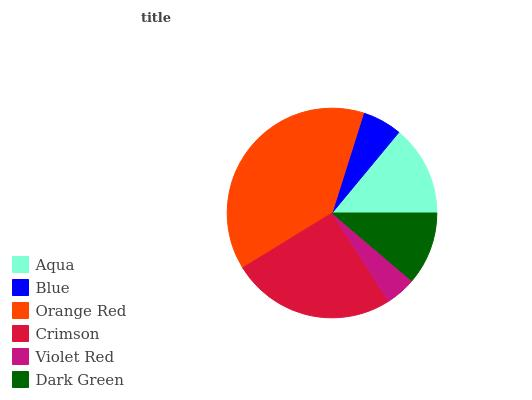legend: (0, 251, 148, 399)
sector: (227, 107, 364, 268), (242, 213, 389, 342), (332, 132, 437, 213), (331, 211, 439, 282), (333, 102, 400, 213), (331, 212, 411, 301)
